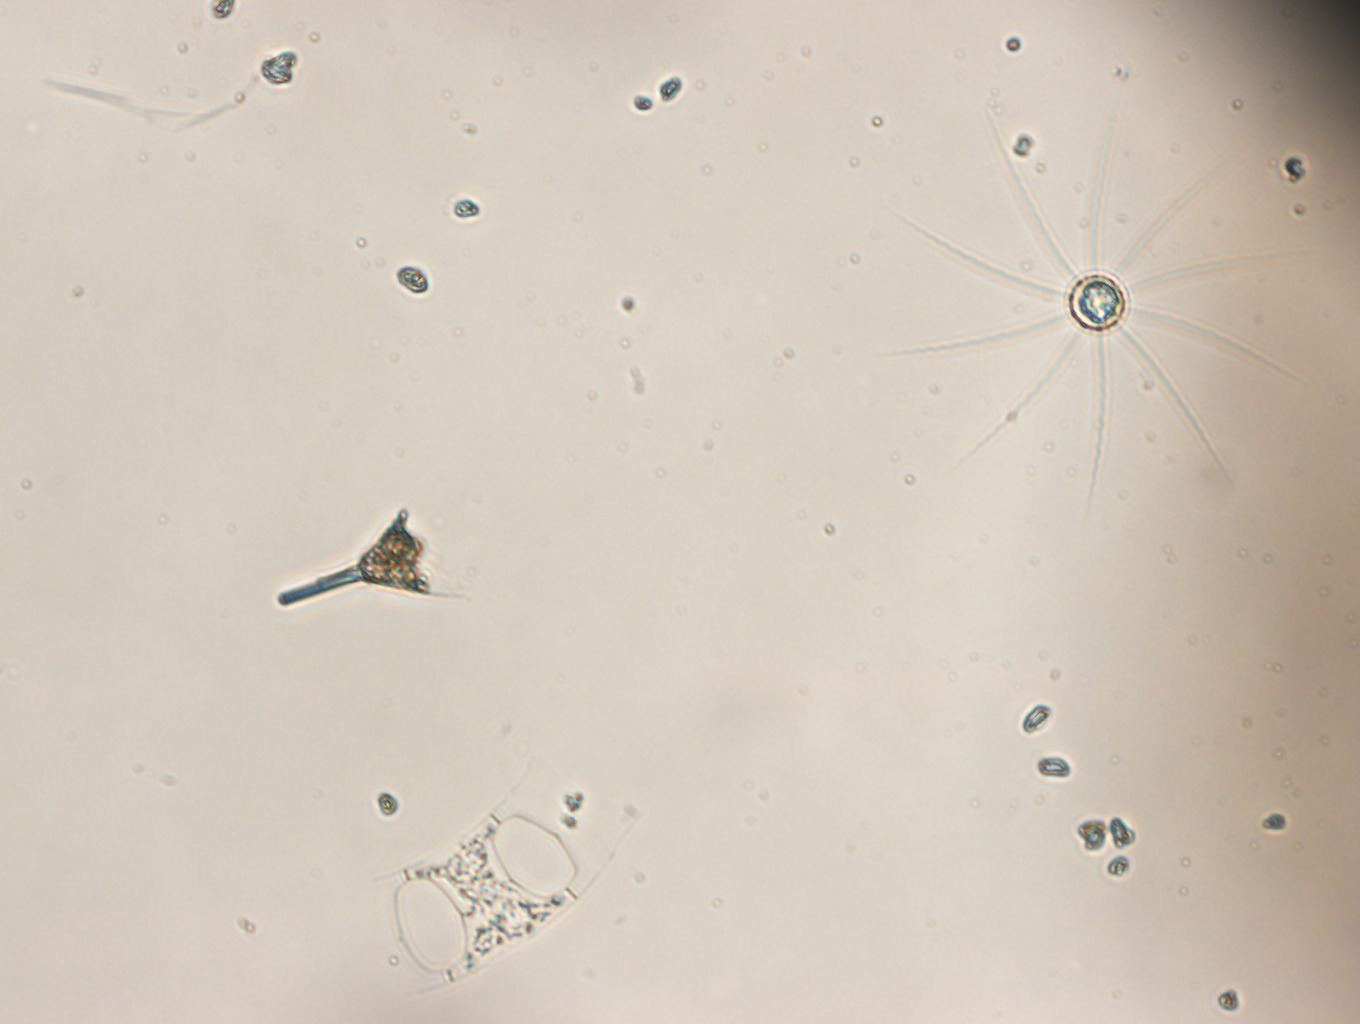bacteriastrum: (884, 73, 1307, 517)
eucampia: (377, 786, 629, 990)
rhizosolenia: (273, 503, 483, 605)
